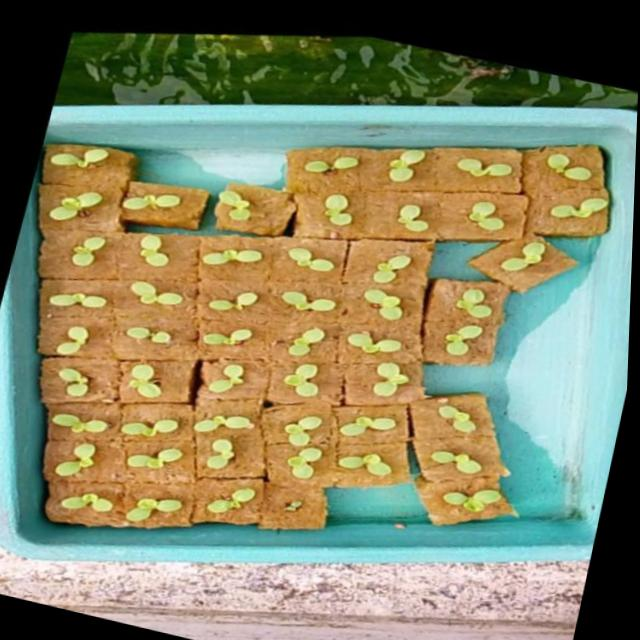Baby: (468, 236, 531, 280), (32, 228, 102, 263), (517, 147, 587, 181), (342, 287, 401, 318), (508, 183, 567, 214), (313, 411, 372, 441), (328, 324, 382, 354), (175, 361, 224, 394), (13, 367, 59, 401), (90, 326, 158, 349), (436, 280, 475, 317), (438, 156, 503, 178), (94, 500, 151, 524), (22, 443, 62, 477), (419, 488, 478, 511), (177, 488, 227, 515), (16, 413, 81, 433), (104, 278, 158, 302), (348, 360, 385, 395), (407, 448, 458, 472), (181, 288, 236, 310), (257, 414, 296, 445), (98, 363, 132, 398), (352, 250, 390, 281), (258, 361, 292, 395), (369, 147, 405, 179), (264, 325, 302, 355), (261, 445, 295, 477), (29, 494, 83, 514), (259, 289, 313, 309), (164, 415, 227, 432), (414, 403, 452, 431), (90, 419, 149, 437), (446, 199, 481, 229), (314, 457, 366, 477), (114, 232, 144, 263), (21, 289, 79, 305), (28, 325, 61, 353), (177, 439, 206, 470), (424, 331, 461, 355), (302, 191, 330, 222), (178, 326, 228, 343), (377, 201, 407, 228), (269, 245, 302, 268), (98, 453, 142, 468)
